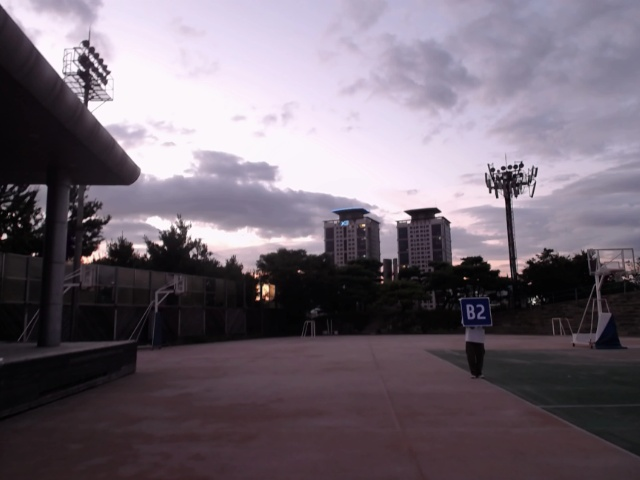delivery_b2: (459, 297, 493, 327)
